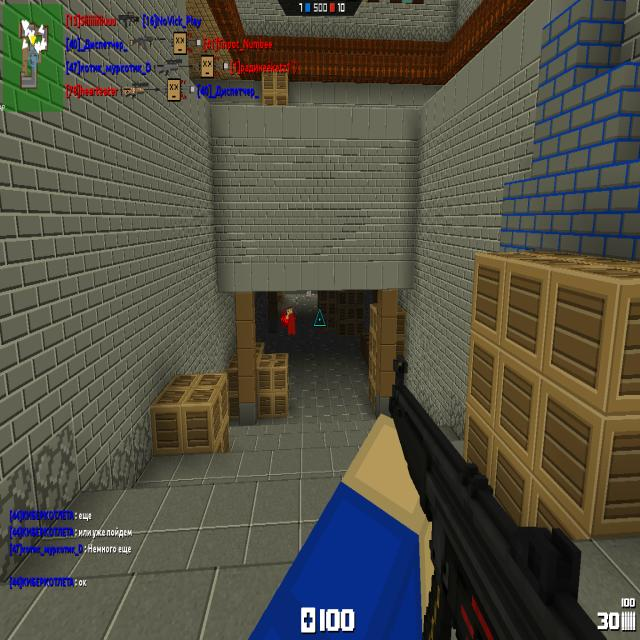enemy: (286, 306, 295, 336), (306, 290, 312, 298)
